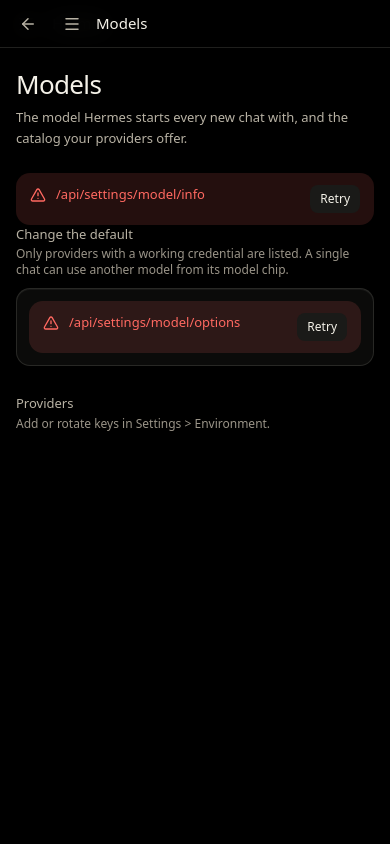
SettingsLayout mobile shell › closes the drawer after selecting a section and shows the page
Click the button named "Open Settings navigation": (72, 24) [52,4,92,44]
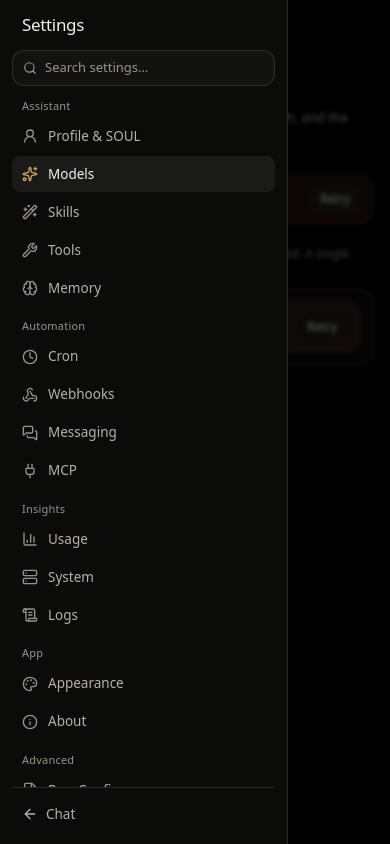
Click the link "Models": (71, 174) [12,156,275,192]
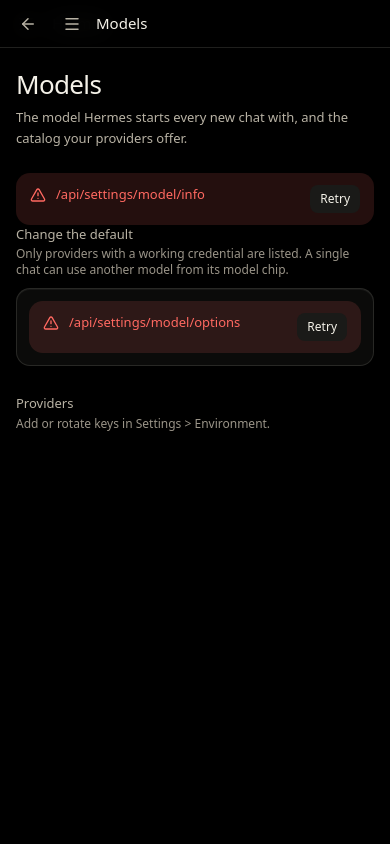
Expected: the heading "Models" is shown, [16,66,101,102]
Expected: the button named "Open Settings navigation" is collapsed, [52,4,92,44]
